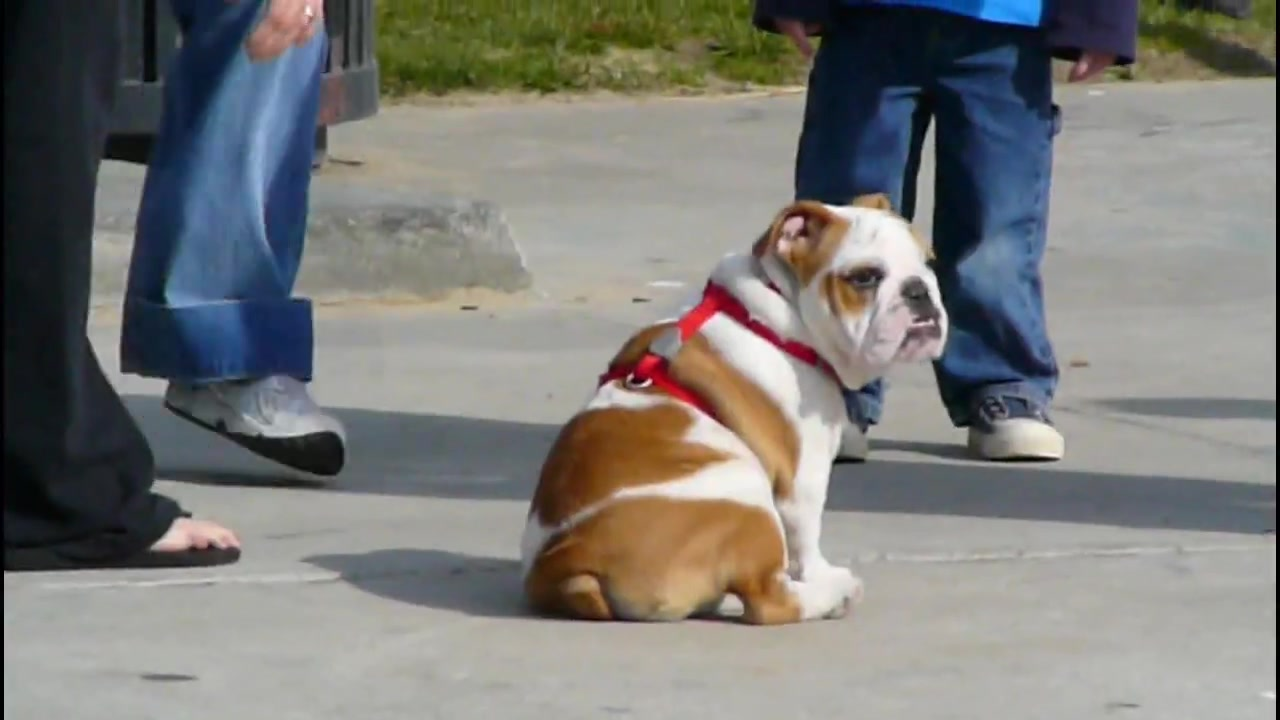dog: (518, 191, 949, 629)
